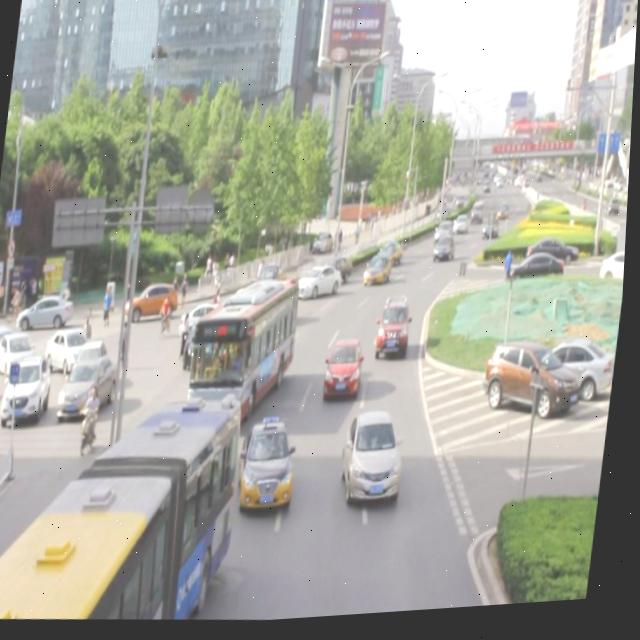car: (339, 411, 411, 510), (240, 418, 306, 516), (326, 337, 369, 403), (182, 300, 239, 347), (377, 300, 416, 363), (257, 283, 299, 339), (183, 318, 223, 374), (230, 308, 275, 356), (298, 264, 345, 304), (225, 288, 260, 334), (364, 253, 395, 290), (320, 257, 355, 288), (375, 241, 406, 272), (433, 234, 458, 266)
van: (0, 380, 247, 635), (190, 276, 303, 418)
